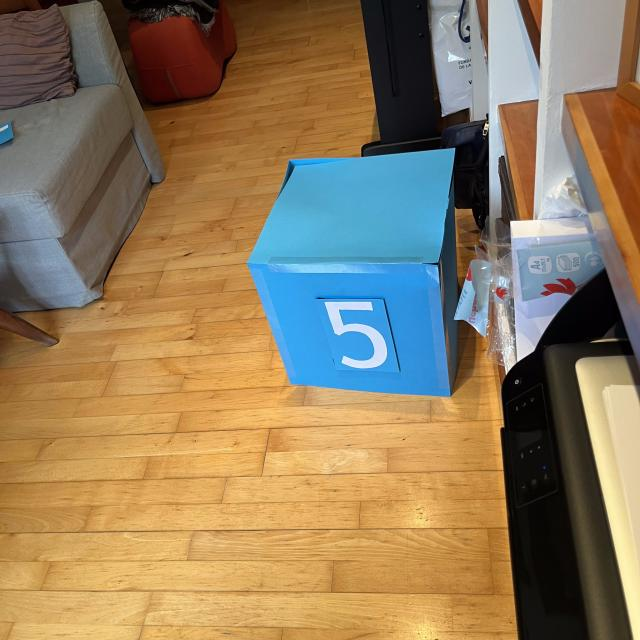box: (244, 145, 464, 400)
